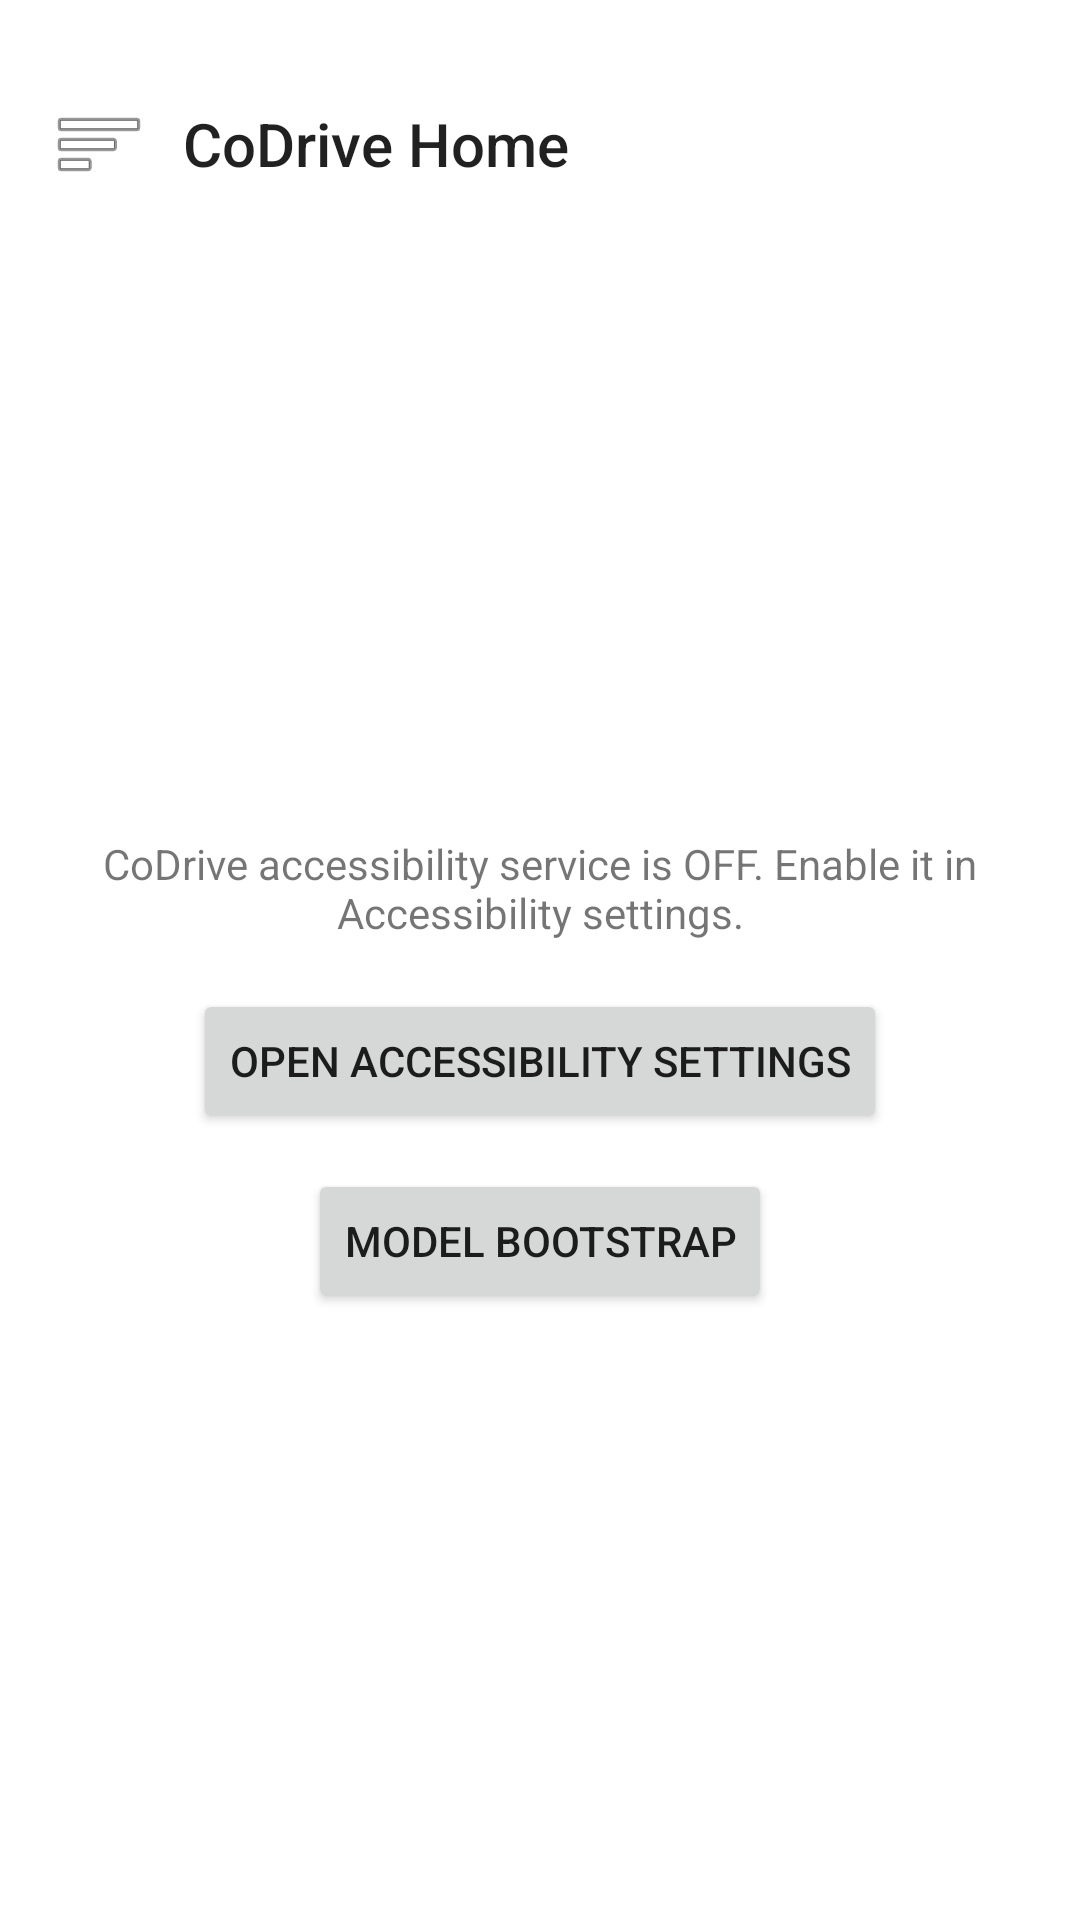

Icons on this 1080px×1920px Android screen, each with the point to tap as point (x, y):
Open navigation menu: point (99, 144)
